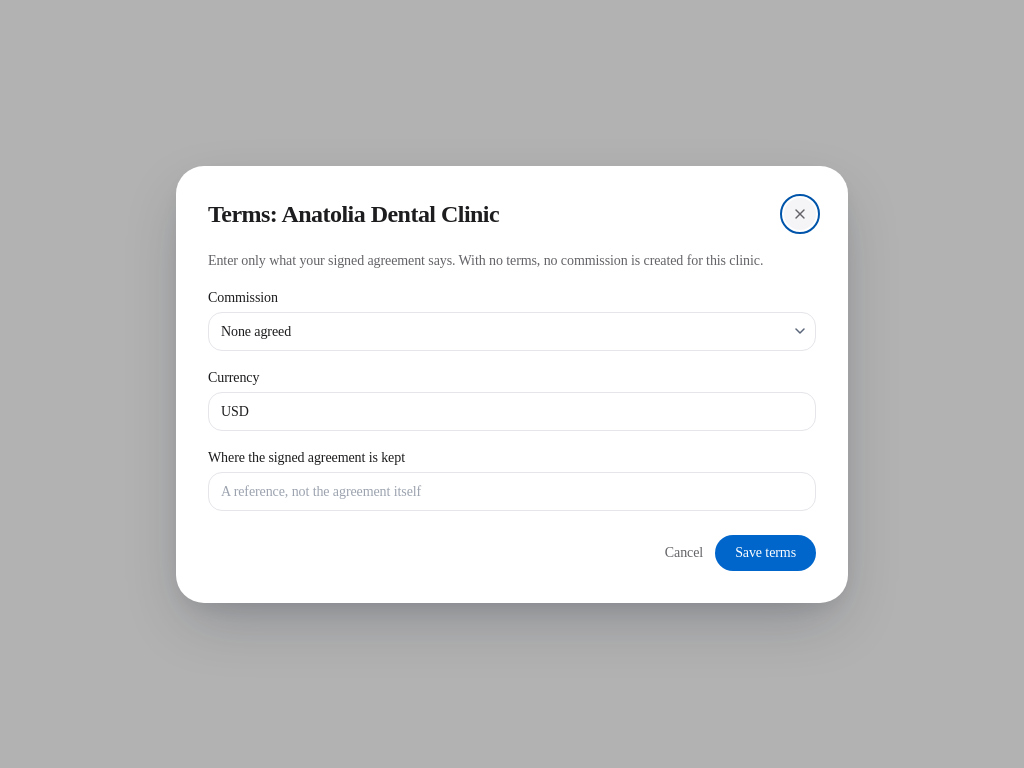
Test: Clinic terms › shows what the server refused and keeps the dialog open
This screenshot has width=1024, height=768.
Click the button "Save terms" at (766, 552), box [715, 534, 816, 570]
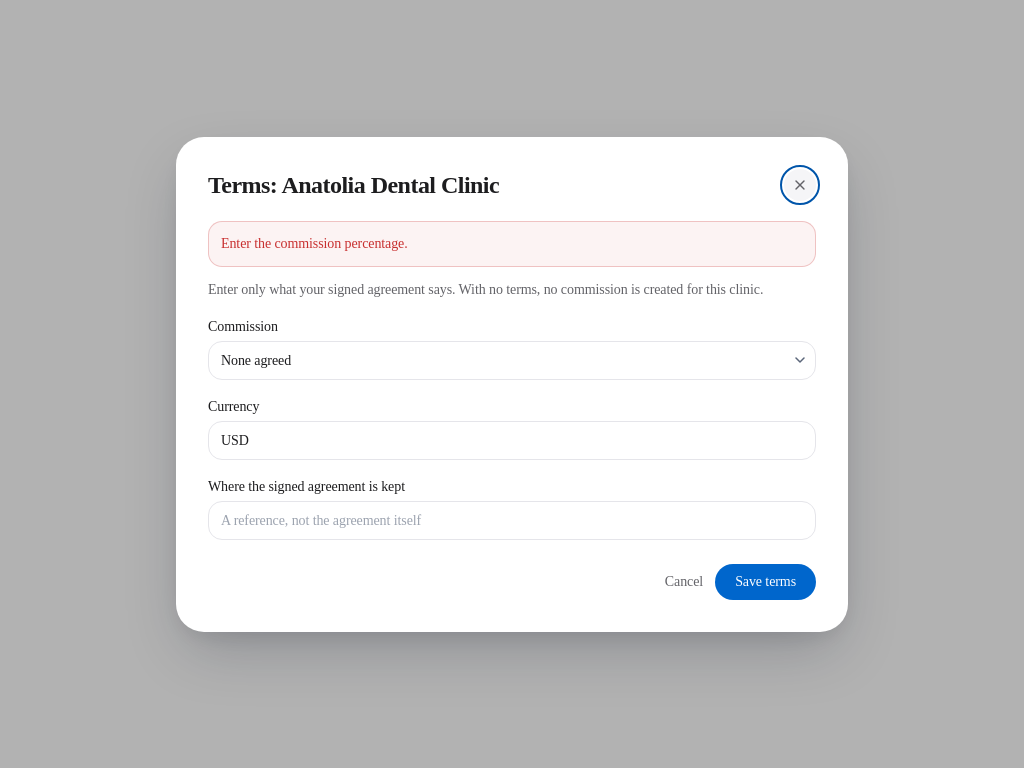
Now the message reads "Enter the commission percentage.", box [221, 236, 408, 250]
